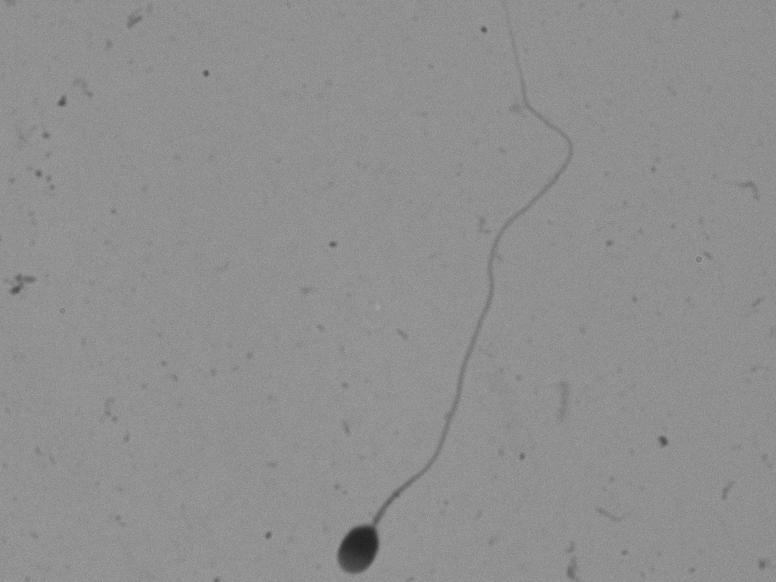Normal: (305, 11, 618, 578)
